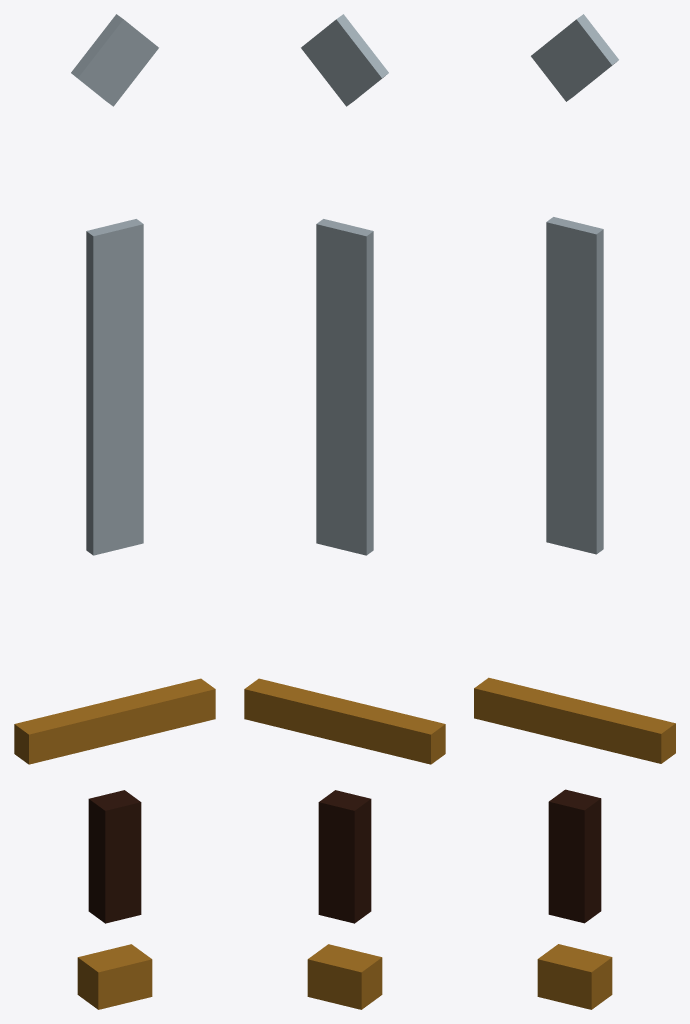
File: silver_blade.obj
3 views of the same model, side by side, from view 1: azimuth 30°, elevation 25°; view 2: azimuth 150°, elevation 25°; view 3: azimuth 330°, elevation 25° (orthographic).
Parts seen in each view (by area): view 1: Blade.001_MAT_SilverSteel, Guard.001_MAT_OldGold, Grip.001_MAT_Leather, BladeTip.001_MAT_SilverSteel, Pommel.001_MAT_OldGold; view 2: Blade.001_MAT_SilverSteel, Guard.001_MAT_OldGold, Grip.001_MAT_Leather, BladeTip.001_MAT_SilverSteel, Pommel.001_MAT_OldGold; view 3: Blade.001_MAT_SilverSteel, Guard.001_MAT_OldGold, Grip.001_MAT_Leather, BladeTip.001_MAT_SilverSteel, Pommel.001_MAT_OldGold.
Part boxes in pixels (left/top/right/bottom): Blade.001_MAT_SilverSteel: left=86, top=219, right=143, bottom=555; Guard.001_MAT_OldGold: left=14, top=678, right=215, bottom=764; Grip.001_MAT_Leather: left=88, top=790, right=141, bottom=923; BladeTip.001_MAT_SilverSteel: left=71, top=14, right=158, bottom=106; Pommel.001_MAT_OldGold: left=77, top=944, right=152, bottom=1009; Blade.001_MAT_SilverSteel: left=316, top=219, right=373, bottom=555; Guard.001_MAT_OldGold: left=244, top=678, right=445, bottom=764; Grip.001_MAT_Leather: left=318, top=790, right=371, bottom=923; BladeTip.001_MAT_SilverSteel: left=301, top=14, right=388, bottom=106; Pommel.001_MAT_OldGold: left=307, top=944, right=382, bottom=1009; Blade.001_MAT_SilverSteel: left=546, top=217, right=603, bottom=554; Guard.001_MAT_OldGold: left=474, top=677, right=675, bottom=763; Grip.001_MAT_Leather: left=548, top=789, right=601, bottom=923; BladeTip.001_MAT_SilverSteel: left=531, top=14, right=618, bottom=101; Pommel.001_MAT_OldGold: left=537, top=944, right=612, bottom=1009.
Bounding box in the file's own units: 0.52 × 2.6 × 0.1.
